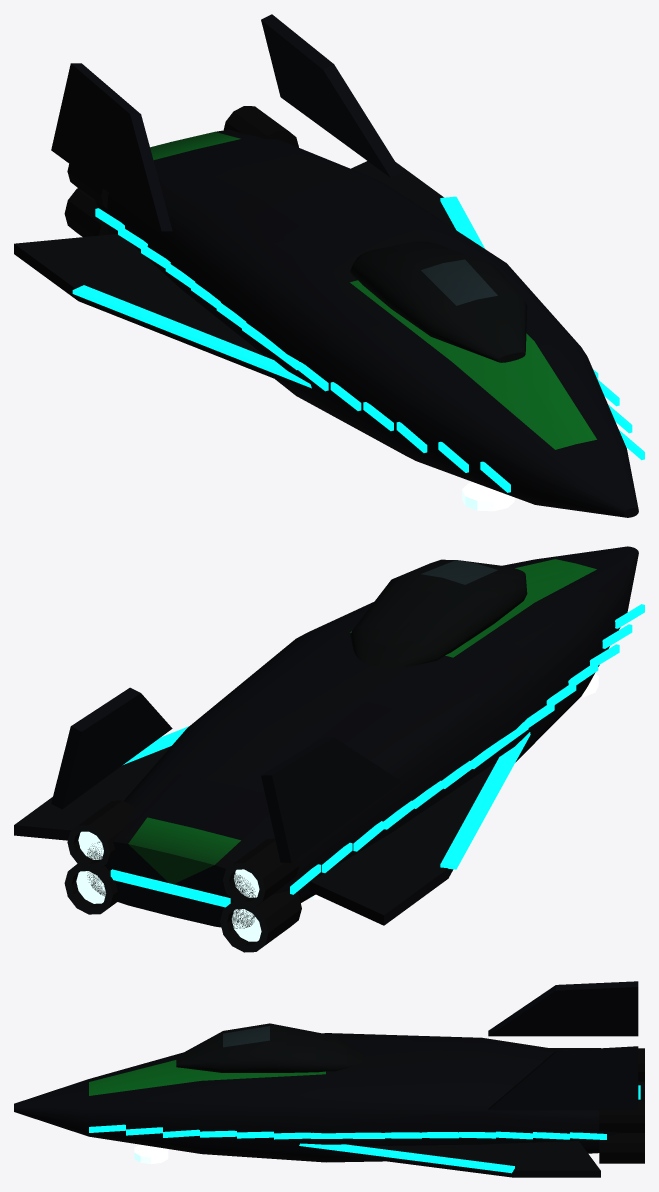
File: shaddai_ship_arrow_v01.glb
3 renders of one model, top to bottom at view 1: azimuth 30°, elevation 25°; view 2: azimuth 150°, elevation 25°; view 3: azimuth 270°, elevation 25°, orthographic. The views are drawn at different scales.
Visible parts, largest first — view 1: shaddai_ship_arrow, shaddai_ship_arrow_thrusters; view 2: shaddai_ship_arrow, shaddai_ship_arrow_thrusters; view 3: shaddai_ship_arrow, shaddai_ship_arrow_thrusters.
Part boxes in pixels (<box>): shaddai_ship_arrow: <box>14,14,644,517</box>; shaddai_ship_arrow_thrusters: <box>64,106,514,511</box>; shaddai_ship_arrow: <box>14,546,644,928</box>; shaddai_ship_arrow_thrusters: <box>64,673,598,952</box>; shaddai_ship_arrow: <box>14,981,640,1177</box>; shaddai_ship_arrow_thrusters: <box>134,1048,644,1164</box>.
Size of the model in its own units: 2.7 by 1.27 by 5.66.
